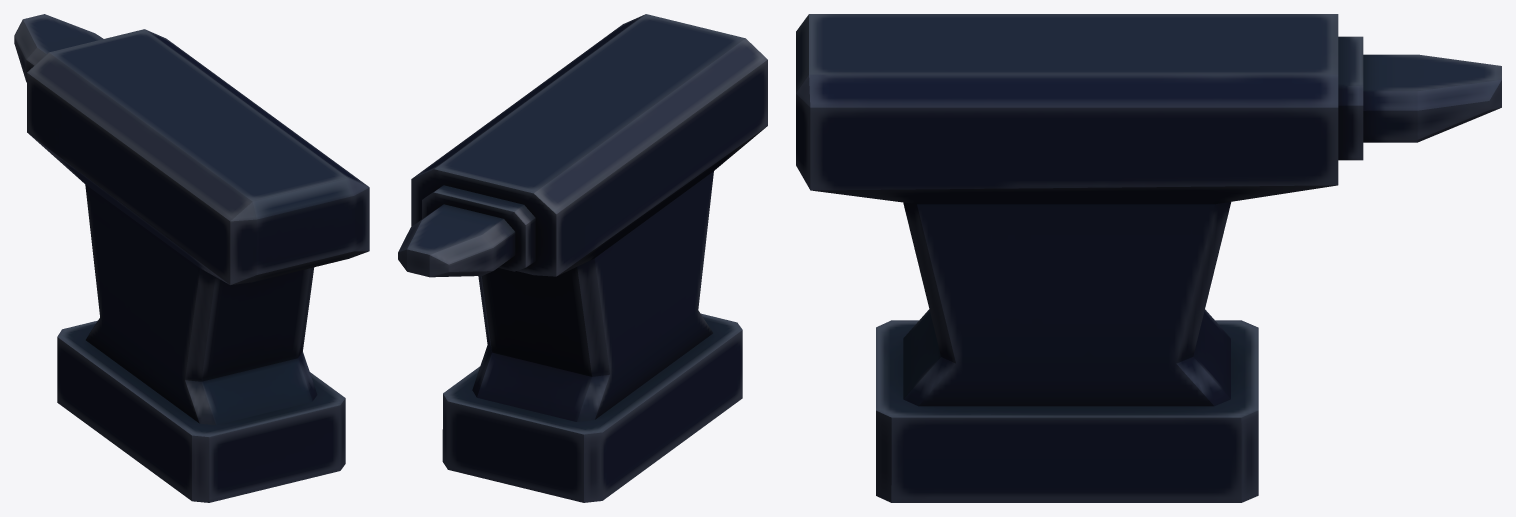
File: örs.fbx
3 views of the same model, side by side, from view 1: azimuth 30°, elevation 25°; view 2: azimuth 150°, elevation 25°; view 3: azimuth 270°, elevation 25° (orthographic). The views are drawn at different scales.
Visible parts, largest first — view 1: Cube.040; view 2: Cube.040; view 3: Cube.040.
Part boxes in pixels (bbox=[...]): Cube.040: bbox=[14, 14, 369, 502]; Cube.040: bbox=[398, 14, 767, 502]; Cube.040: bbox=[796, 14, 1501, 502].
Bounding box in the file's own units: 127 × 249 × 388.
